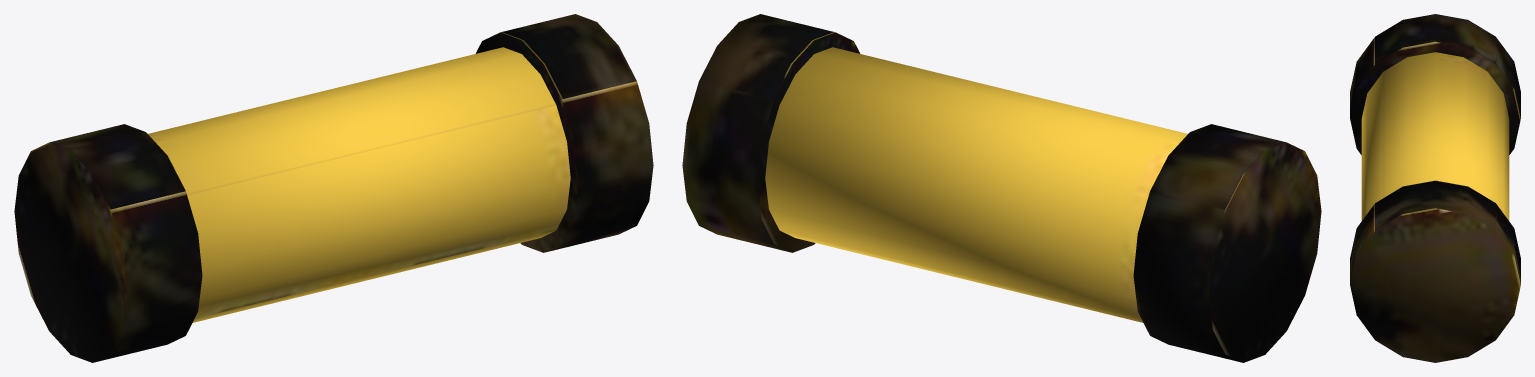
File: fuse.glb
The picture shows the model from 3 angles, left to right: view 1: azimuth 30°, elevation 25°; view 2: azimuth 150°, elevation 25°; view 3: azimuth 270°, elevation 25°; orthographic projection. The views are drawn at different scales.
Parts seen in each view (by area): view 1: Main; view 2: Main; view 3: Main.
Part boxes in pixels (<box>): Main: <box>14,14,653,362</box>; Main: <box>682,14,1321,362</box>; Main: <box>1350,14,1520,362</box>.
Bounding box in the file's own units: 0.28 × 0.104 × 0.104.
Materials: 1 (1 with a texture image).
